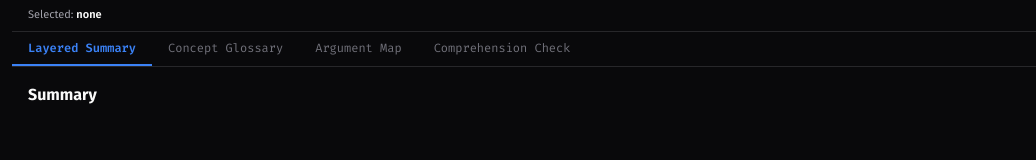
Test: DetailPanelShell (with tabs) › switches to Argument Map tab on click
Click the tab "Argument Map": (358, 49) [299,32,418,66]
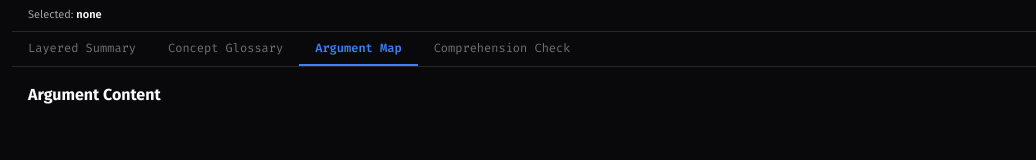
Check: the heading "Argument Content" is shown, box [28,85,161,104]
